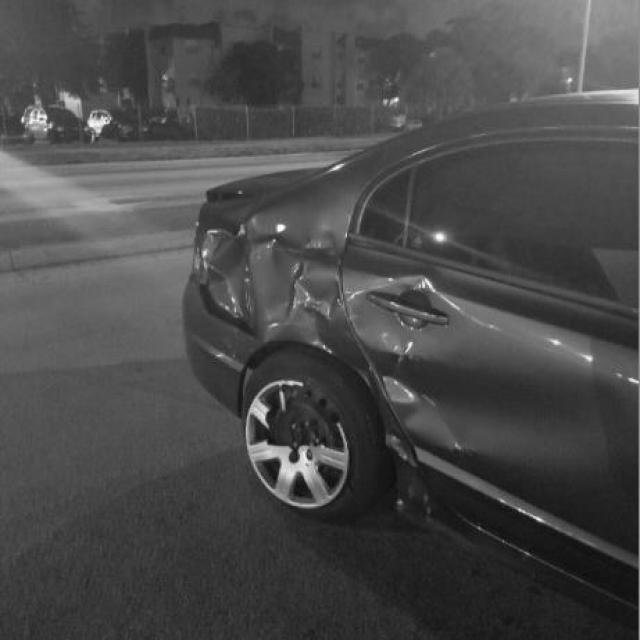crush: (199, 203, 620, 523)
